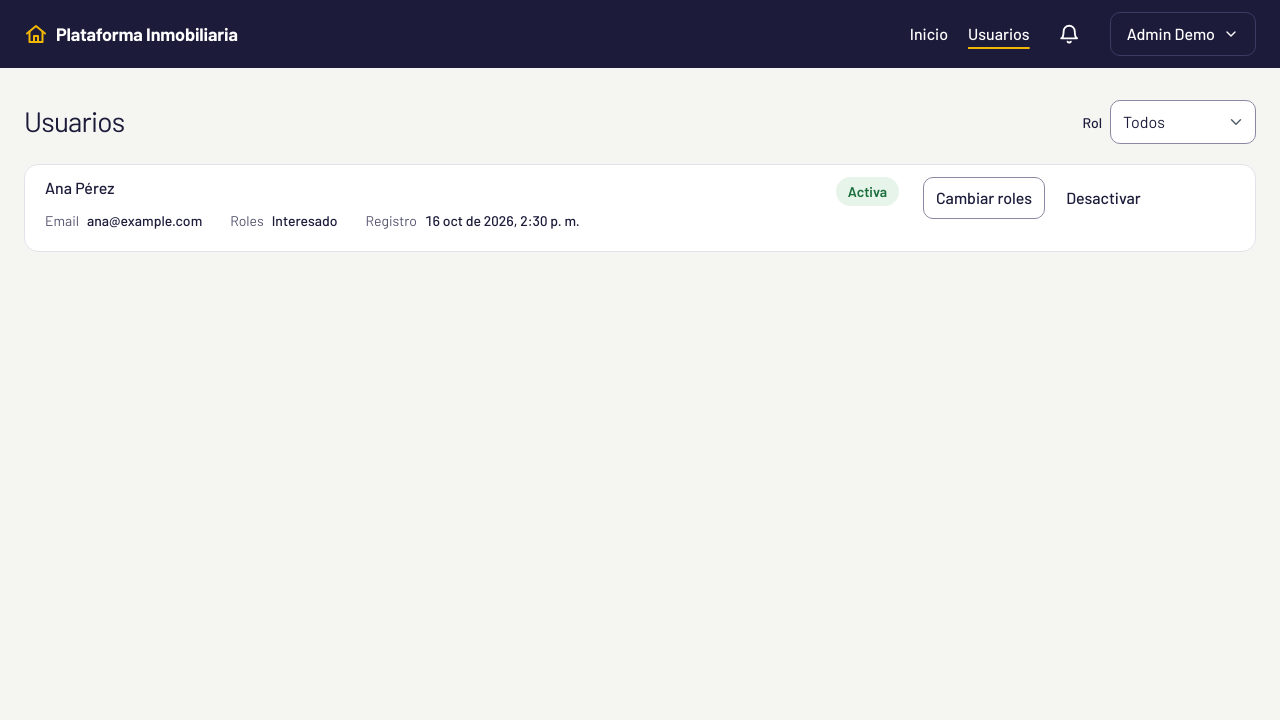
AdminUsersPage › shows the error in the row and keeps the panel open
Click the button with aria-label "Cambiar roles: Ana Pérez": [984, 198] box x1=923 y1=177 x2=1045 y2=219
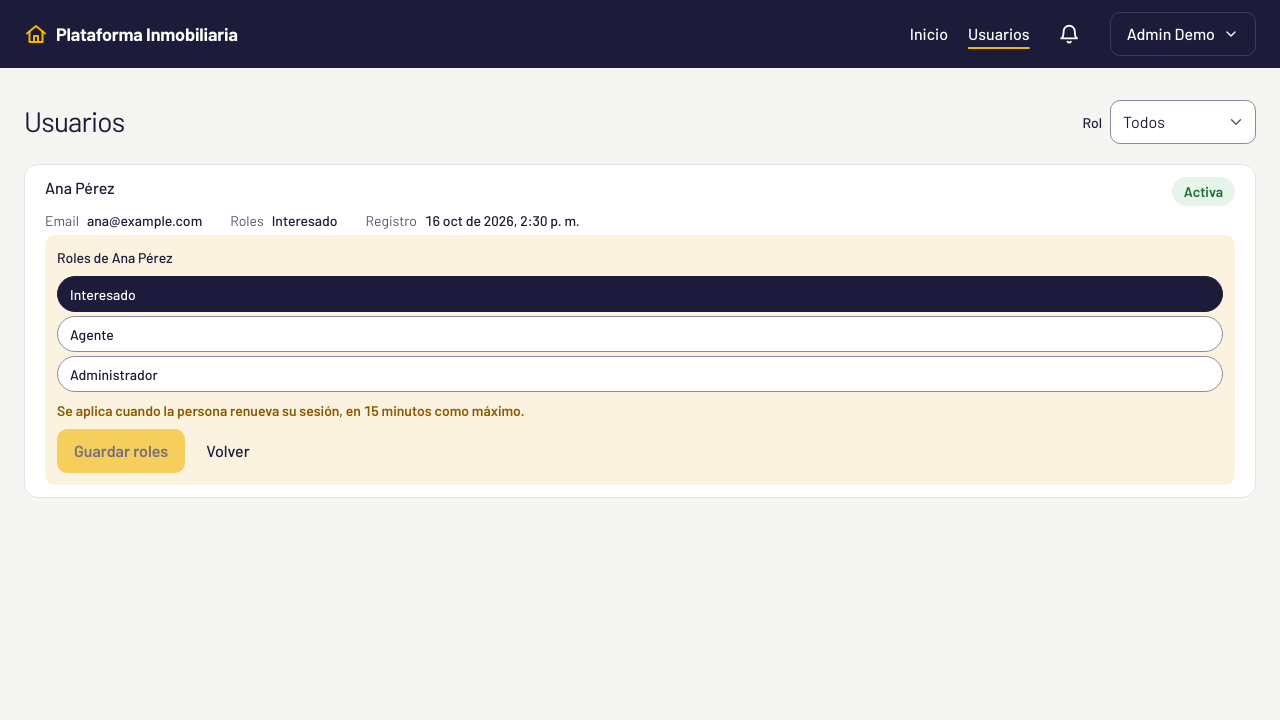
Click the checkbox labelled "Agente": [92, 334] box x1=57 y1=316 x2=1223 y2=352
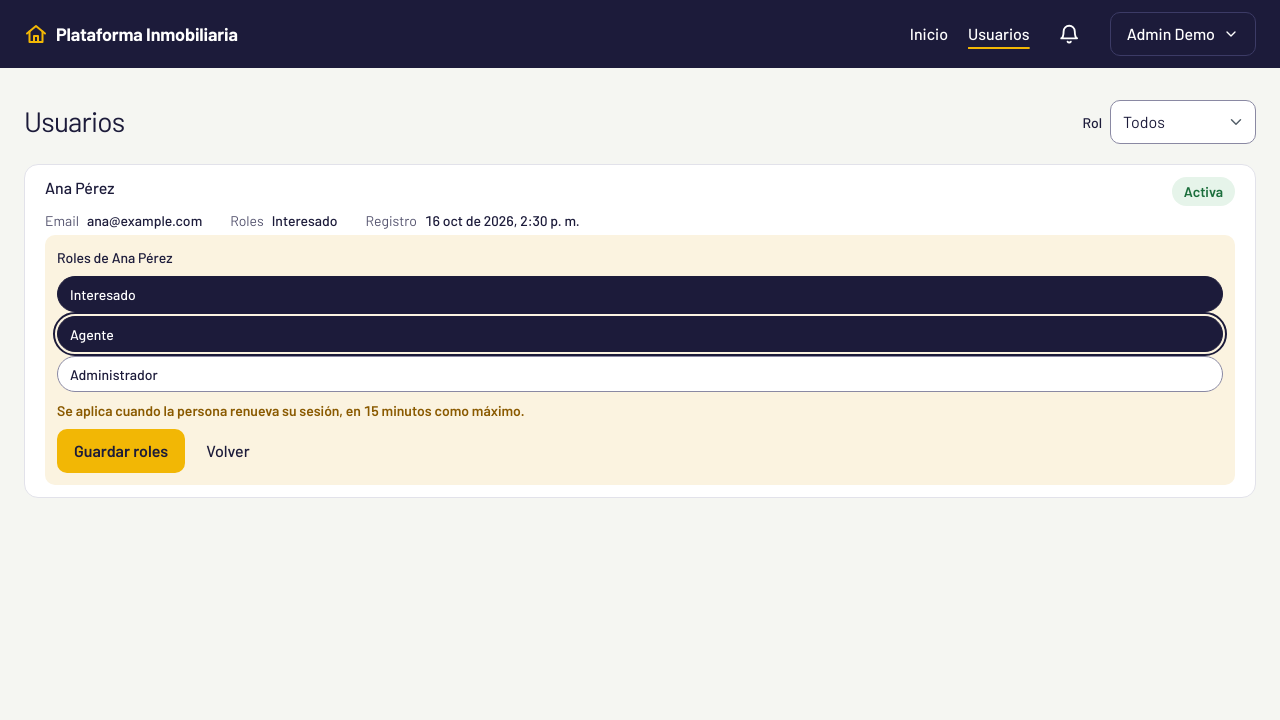
Click the button "Guardar roles": [121, 451] box x1=57 y1=429 x2=185 y2=473
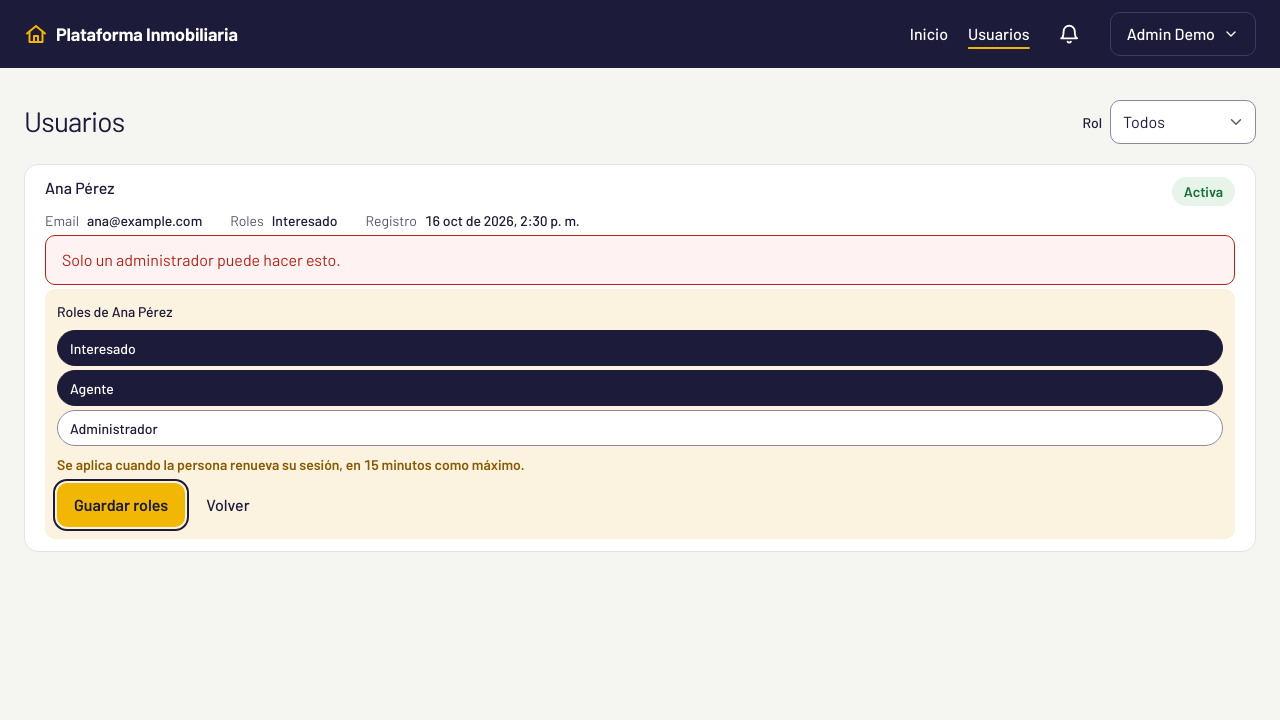
Result: the button "Guardar roles" is shown at x1=57 y1=483 x2=185 y2=527
Result: the text "Solo un administrador puede hacer esto." is shown at x1=62 y1=250 x2=341 y2=269
